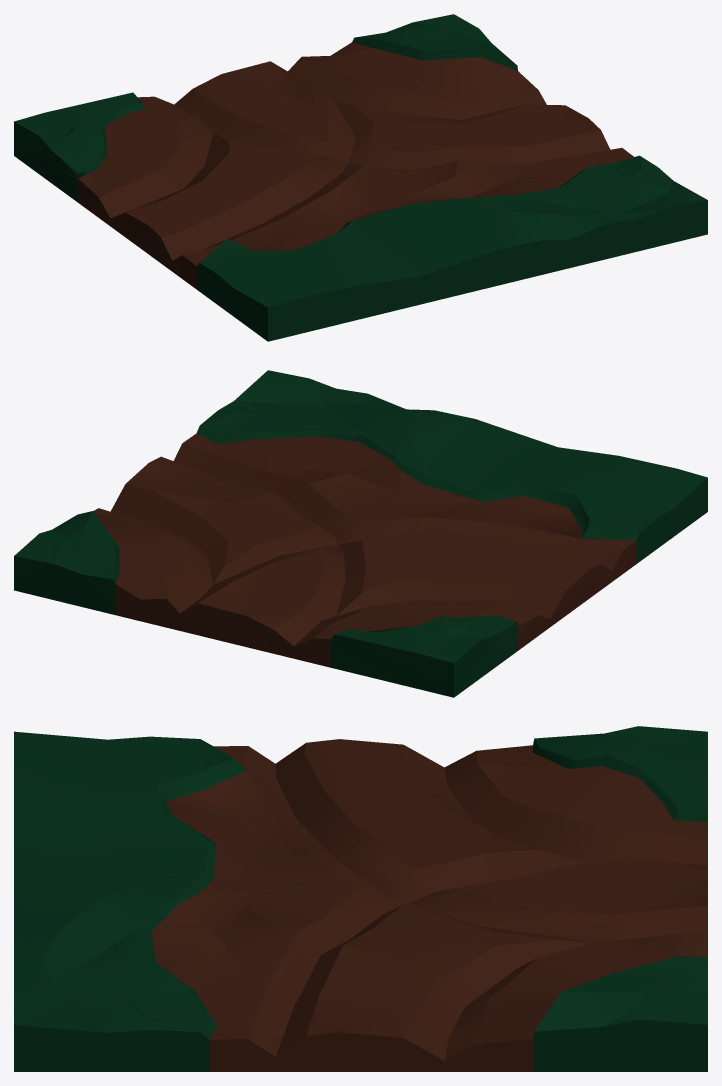
The model's file is Ground_Road_Crossroads_U_1.fbx.
3 renders of one model, top to bottom at view 1: azimuth 30°, elevation 25°; view 2: azimuth 150°, elevation 25°; view 3: azimuth 270°, elevation 25°, orthographic. The views are drawn at different scales.
Parts seen in each view (by area): view 1: Ground_Road_Crossroads_U_1; view 2: Ground_Road_Crossroads_U_1; view 3: Ground_Road_Crossroads_U_1.
Boxes of the visible parts, <box> form: Ground_Road_Crossroads_U_1: <box>14,14,707,341</box>; Ground_Road_Crossroads_U_1: <box>14,370,707,697</box>; Ground_Road_Crossroads_U_1: <box>14,726,707,1071</box>.
Bounding box in the file's own units: 147 × 14.83 × 147.
